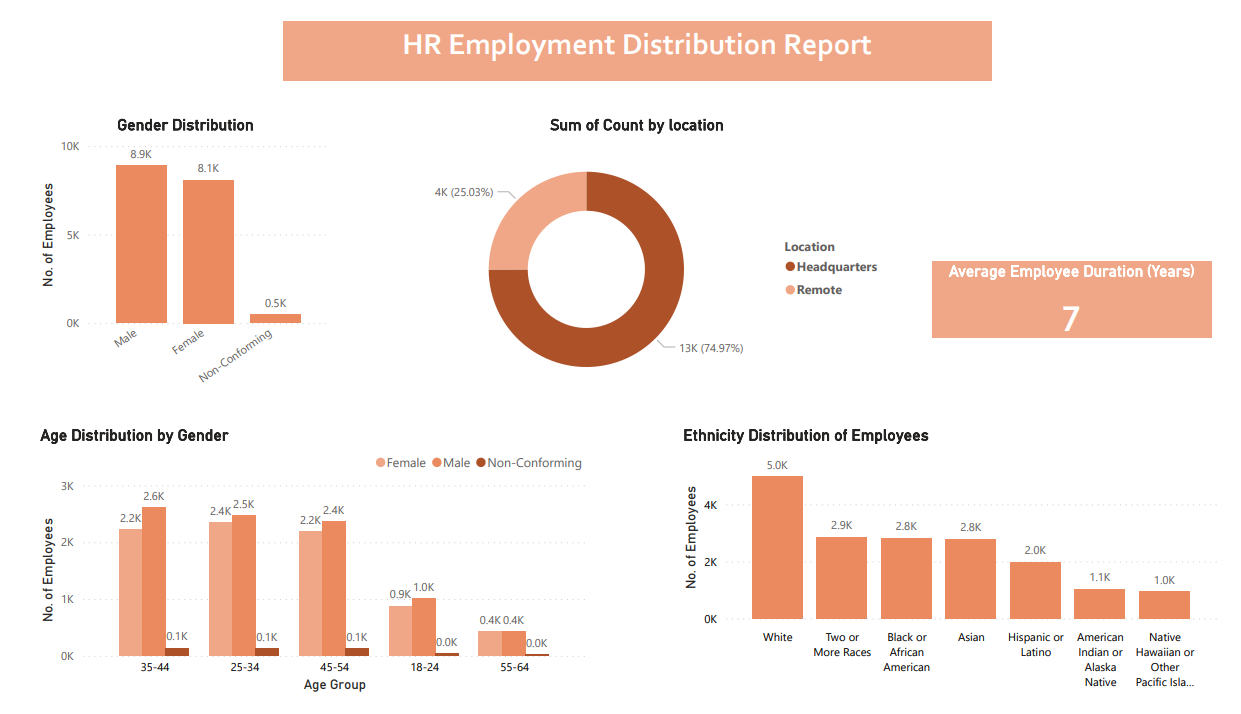

What the dashboard file says about the page in this screenshot:
{"tool":"powerbi","page":{"name":"Page 1","canvas":[1280,720],"ordinal":0},"visuals":[{"type":"clusteredColumnChart","title":"Age Distribution by Gender","fields":{"Y":["Sum(age distribution.Count)"],"Category":["age distribution.Age_group"],"Series":["age distribution.gender"]},"box":[15.1,431.1,592.6,289.3],"z":0},{"type":"textbox","box":[278.8,0,756.2,62.5],"z":1000},{"type":"card","title":"Average Employee Duration (Years)","fields":{"Values":["Sum(average length of employement.avg_emp_duration)"]},"box":[971.4,255.6,297.5,82.5],"z":2000},{"type":"columnChart","title":"Gender Distribution","fields":{"Y":["Sum(gender breakdown.count)"],"Category":["gender breakdown.Gender"]},"box":[15.1,99.9,319.5,310.2],"z":3000},{"type":"donutChart","fields":{"Y":["Sum(location.Count)"],"Category":["location.location"]},"box":[385.8,99.9,541.5,310.2],"z":4000},{"type":"clusteredColumnChart","title":"Ethnicity Distribution of Employees","fields":{"Category":["race breakdown.Race"],"Y":["Sum(race breakdown.count)"]},"box":[700.7,431.1,579.8,289.3],"z":5000}]}

Visuals, with their boxes in screenshot pixels (x1, y1, x2, y2), scaled from the page's 1280x720 canvas onto the 1241x714 screenshot:
"Age Distribution by Gender" clusteredColumnChart: crop(15, 428, 589, 713)
textbox: crop(270, 0, 1003, 62)
"Average Employee Duration (Years)" card: crop(942, 253, 1230, 335)
"Gender Distribution" columnChart: crop(15, 99, 324, 407)
donutChart - Sum(location.Count) x location.location: crop(374, 99, 899, 407)
"Ethnicity Distribution of Employees" clusteredColumnChart: crop(679, 428, 1240, 713)
